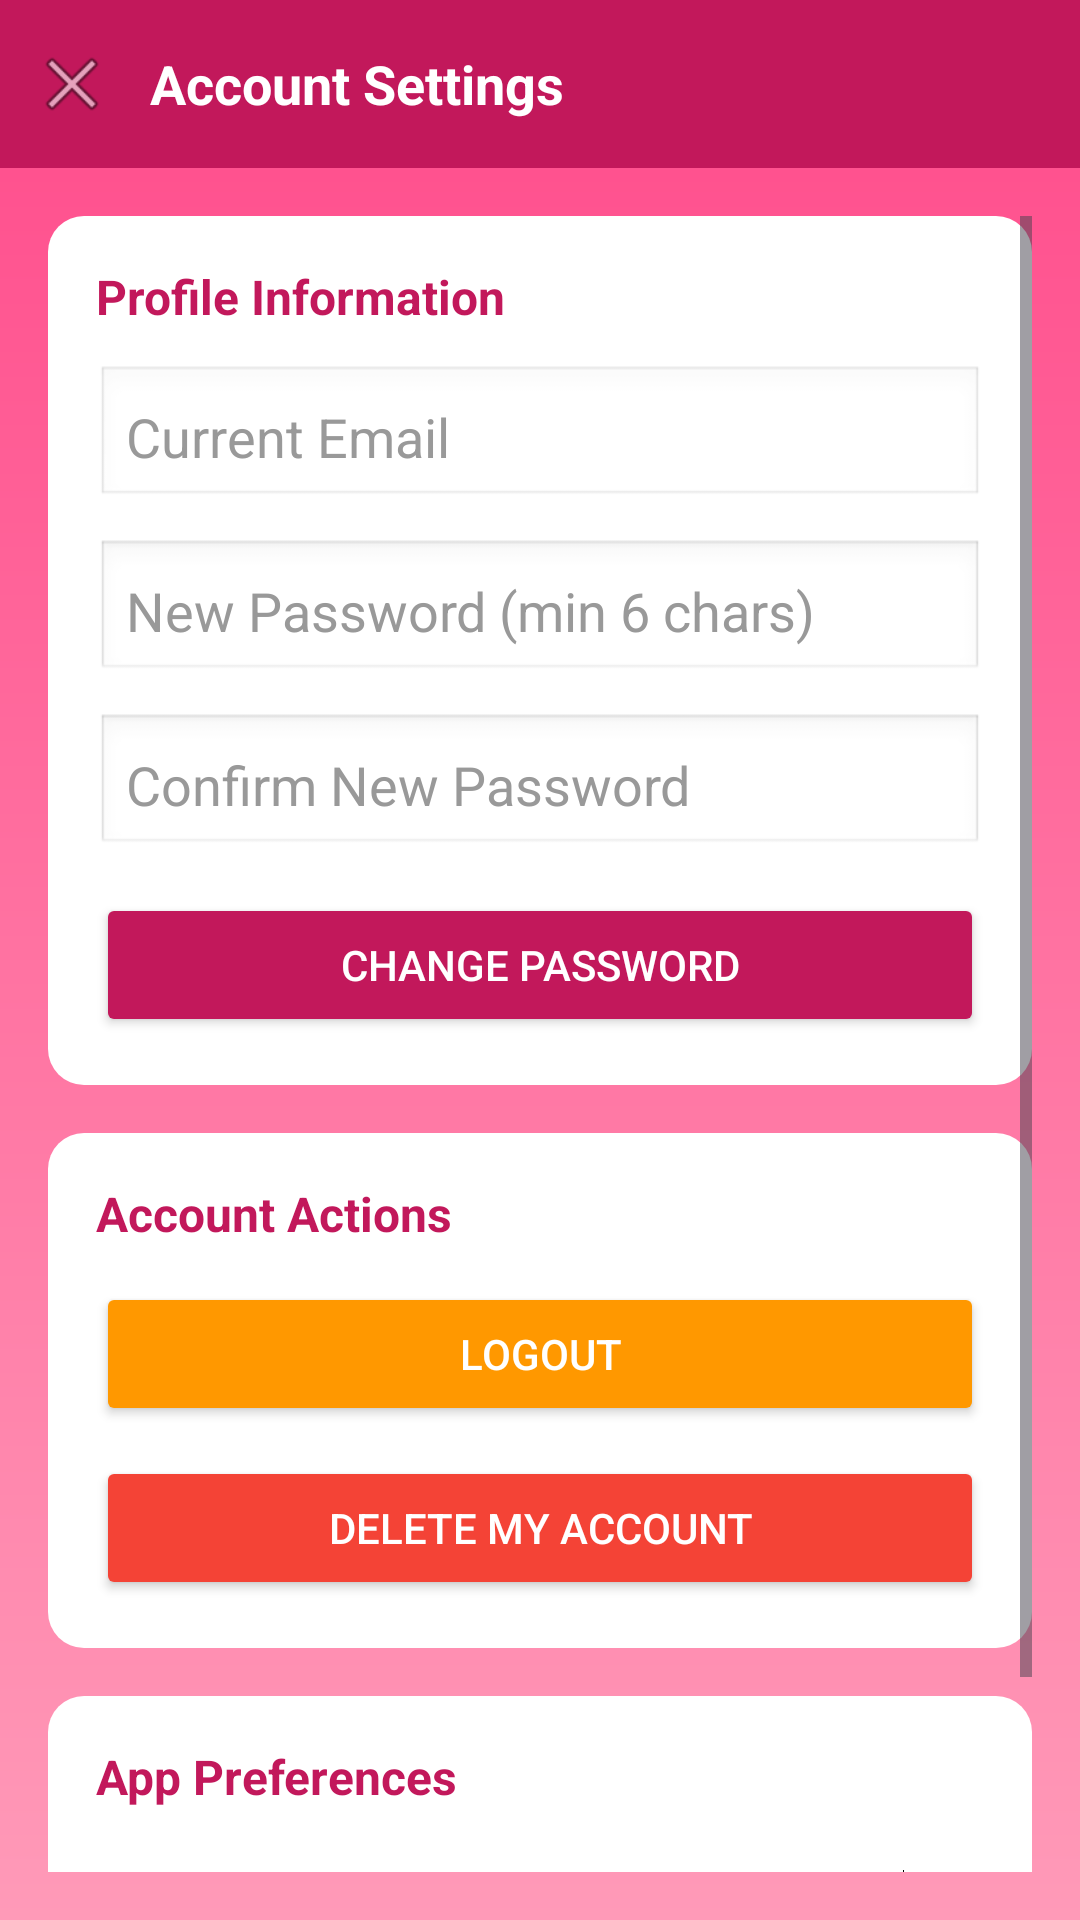

Icon click points for this 1080w x 1920h phone screenshot, format [x,y]:
close clear cancel: [72,84]
